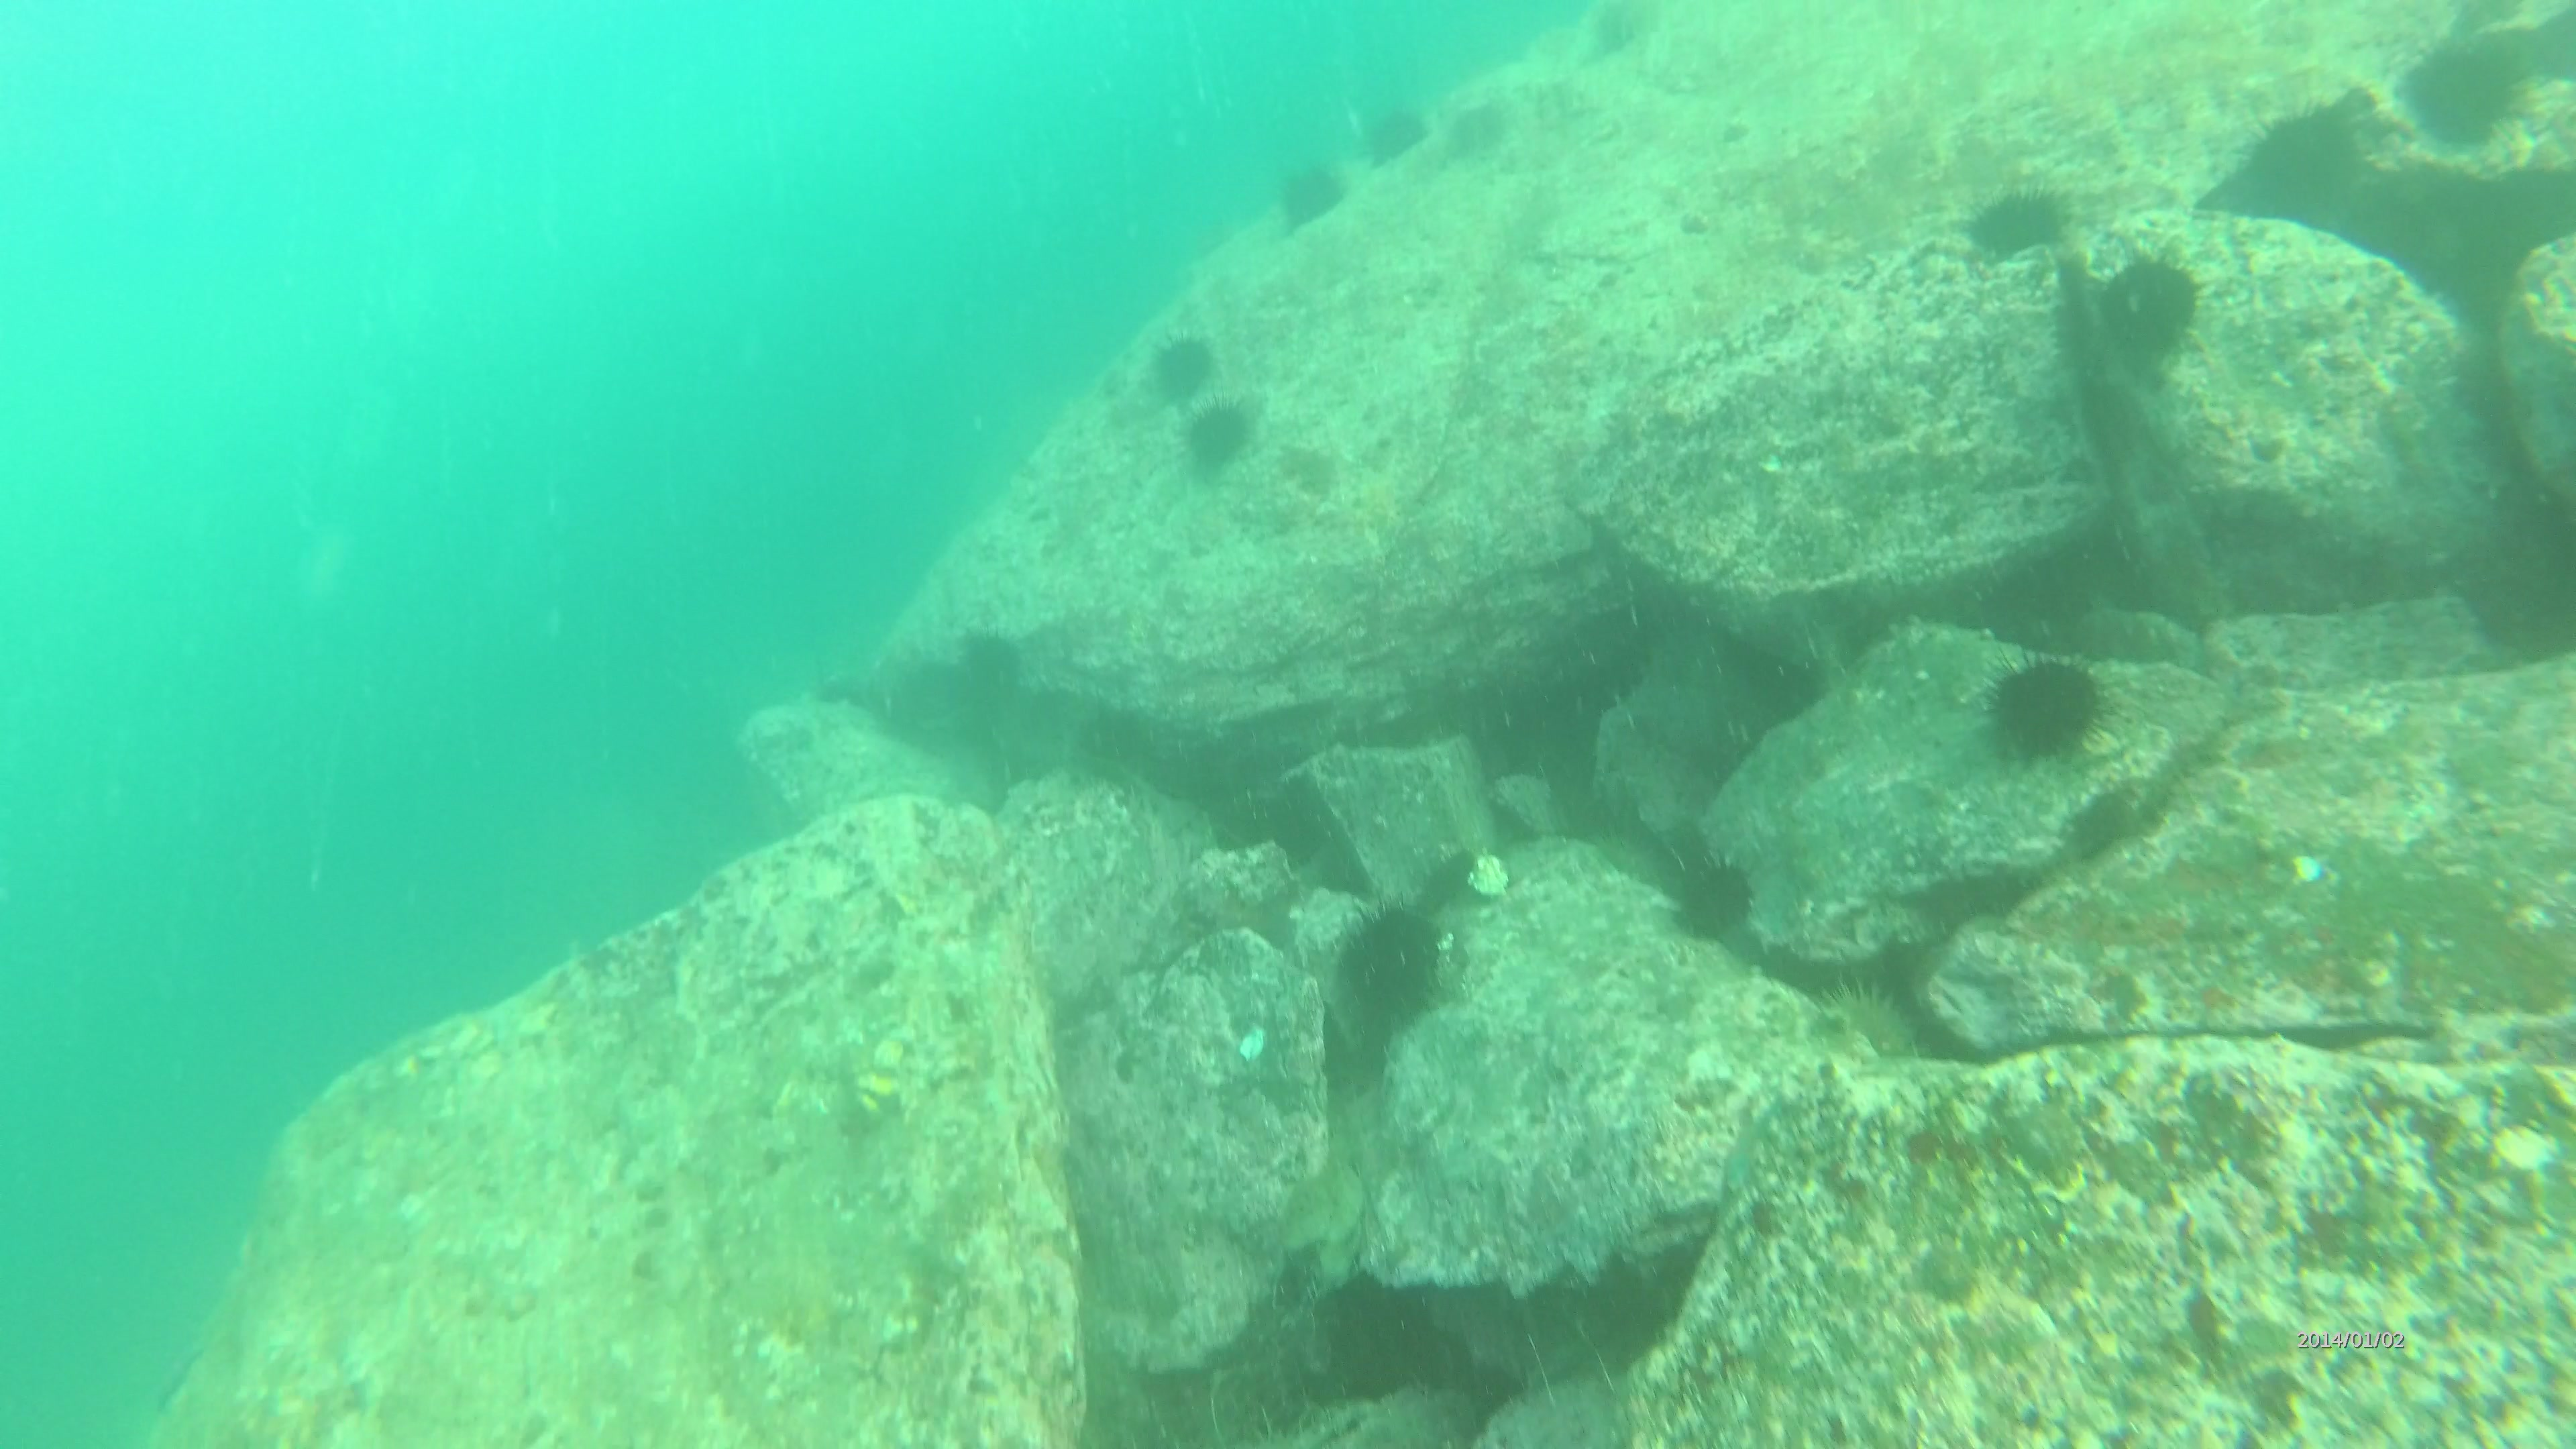echinus: (2233, 97, 2378, 241), (1982, 653, 2102, 748), (1805, 978, 1932, 1065), (2102, 260, 2201, 352), (1339, 906, 1445, 991), (1674, 853, 1759, 945), (1962, 182, 2051, 260), (1276, 156, 1352, 219), (1371, 103, 1431, 177), (1171, 416, 1254, 467), (1442, 97, 1506, 161), (1146, 341, 1215, 400), (1599, 824, 1663, 885)
